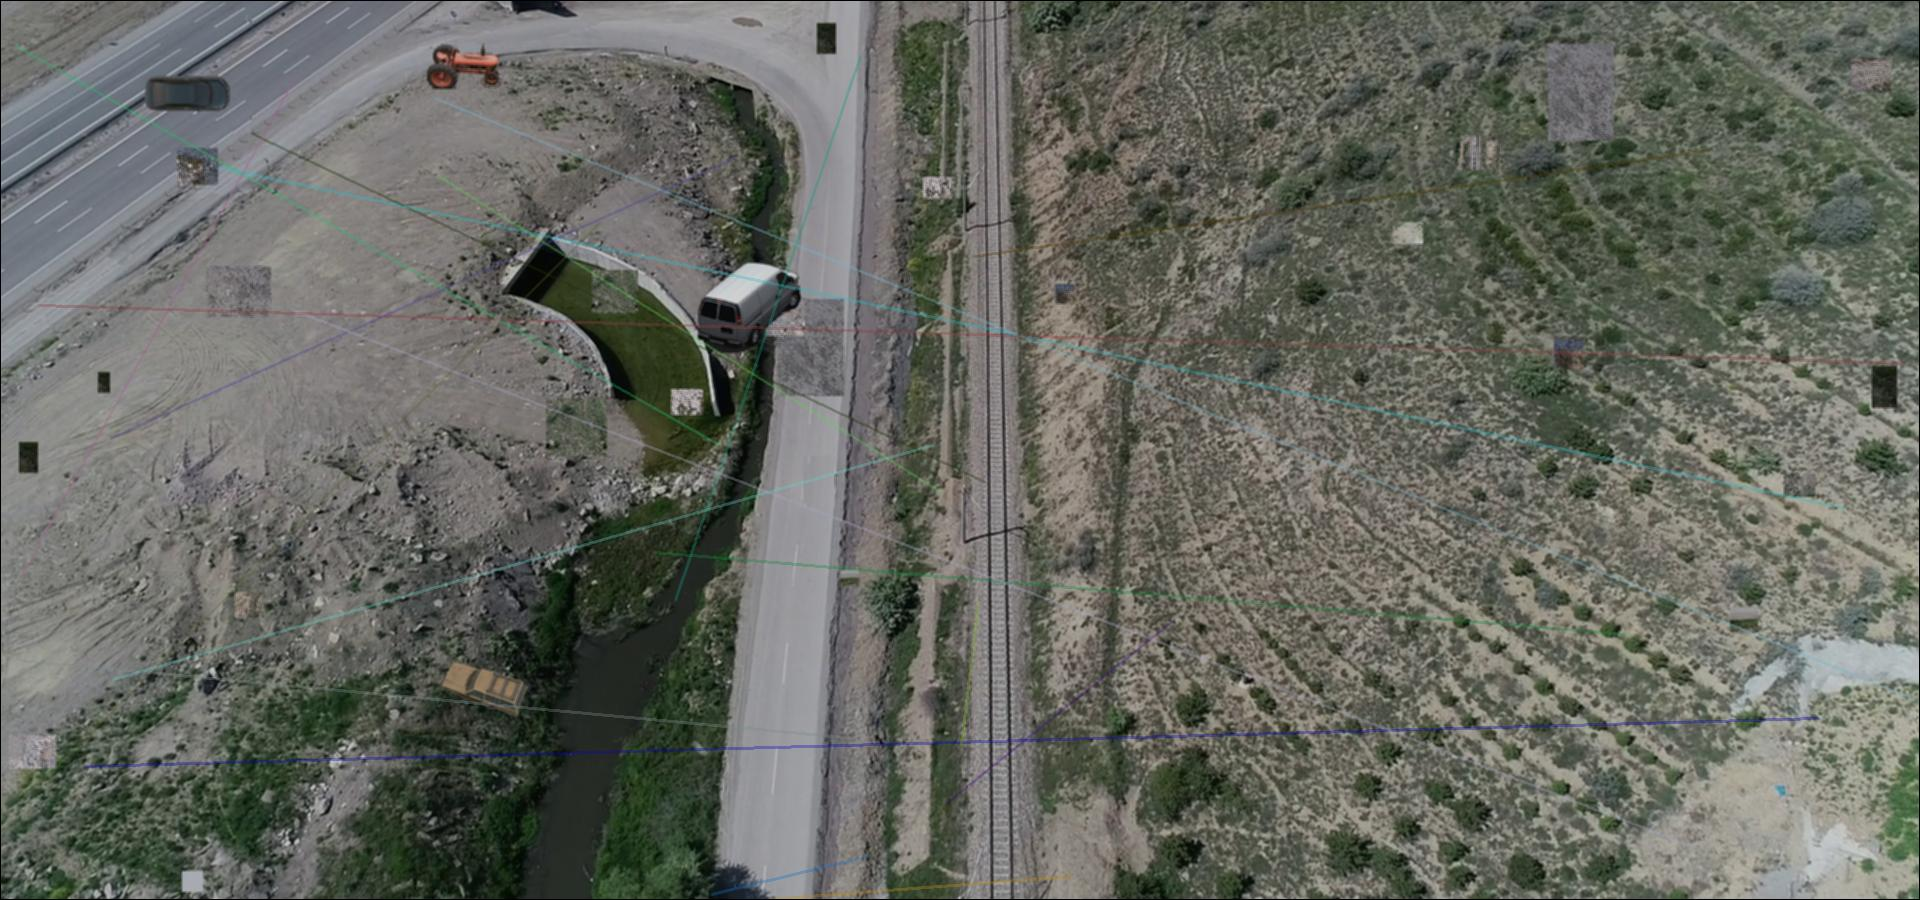arac: (698, 262, 802, 353), (441, 659, 529, 720), (427, 43, 504, 89), (144, 73, 230, 111)
